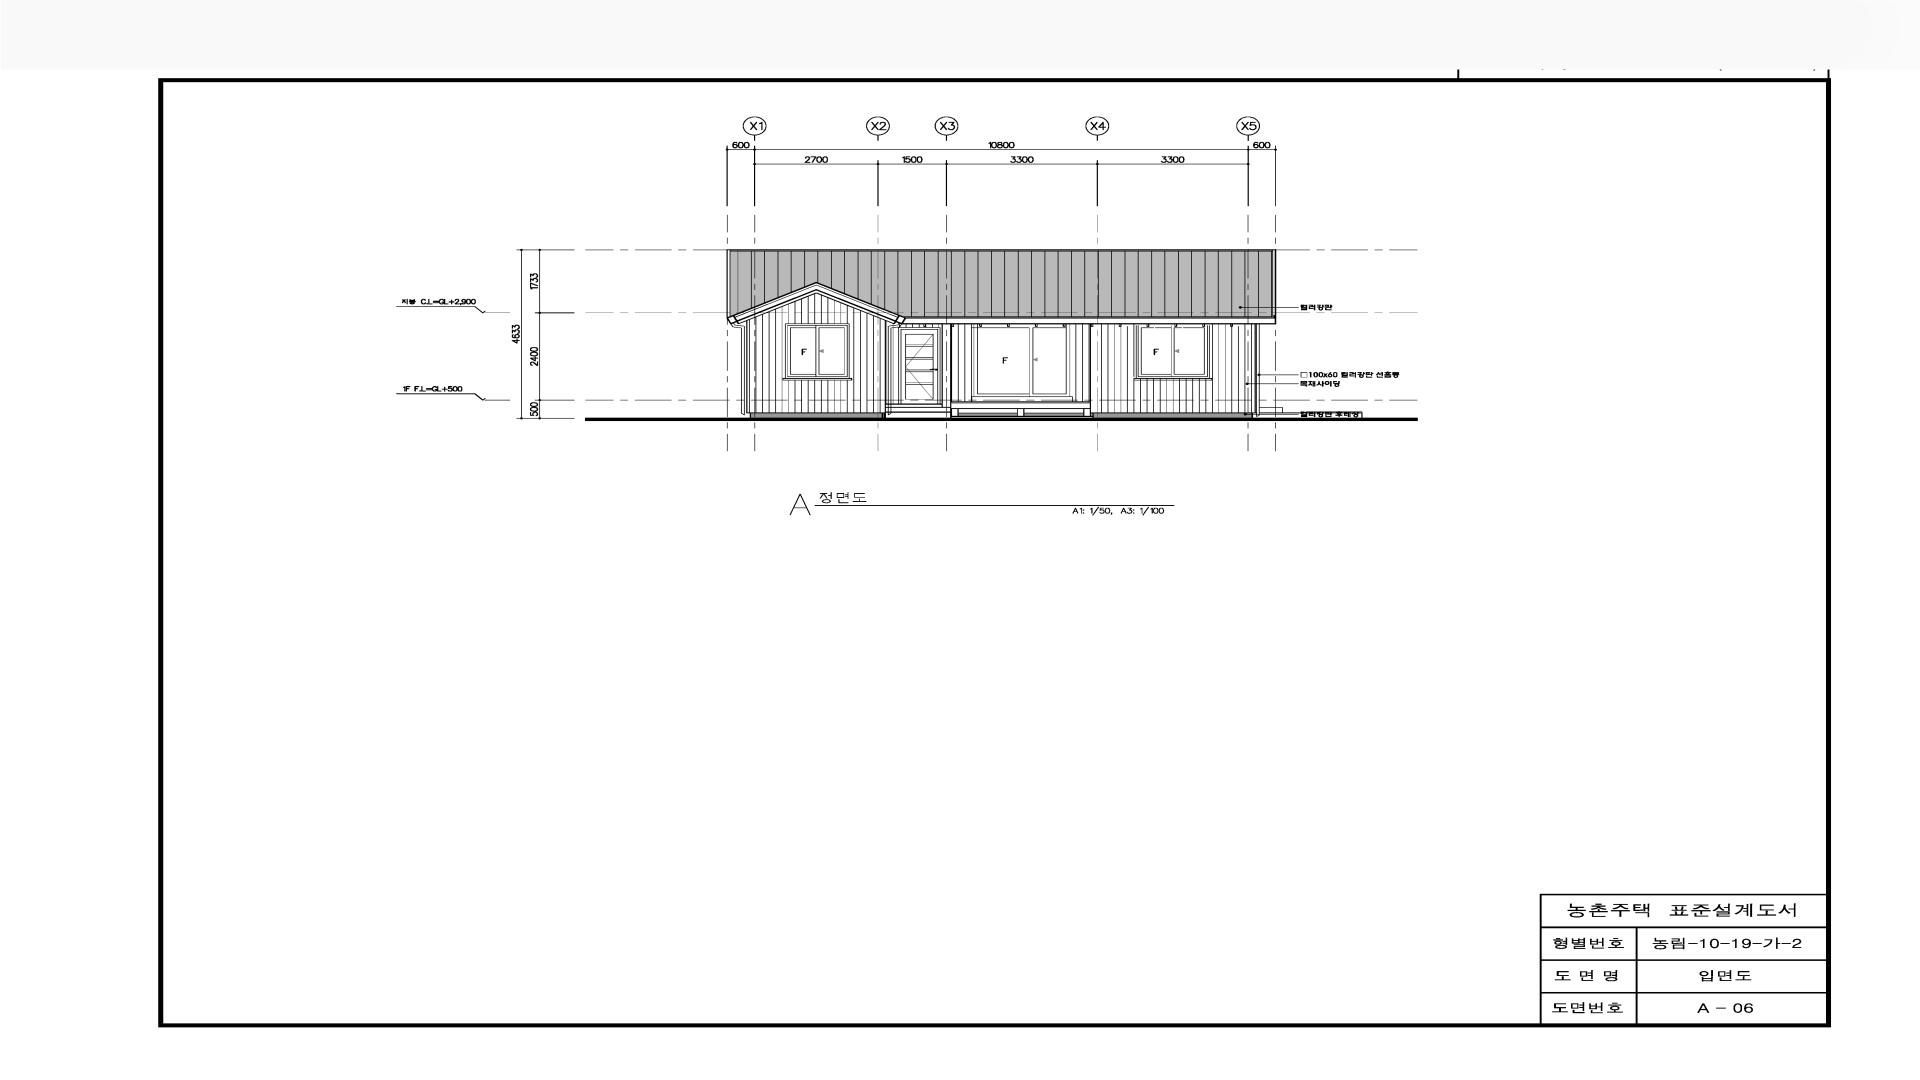door: (899, 328, 940, 404)
wall: (727, 250, 1276, 418)
window: (971, 324, 1070, 397), (1133, 324, 1212, 379), (785, 323, 850, 378)
